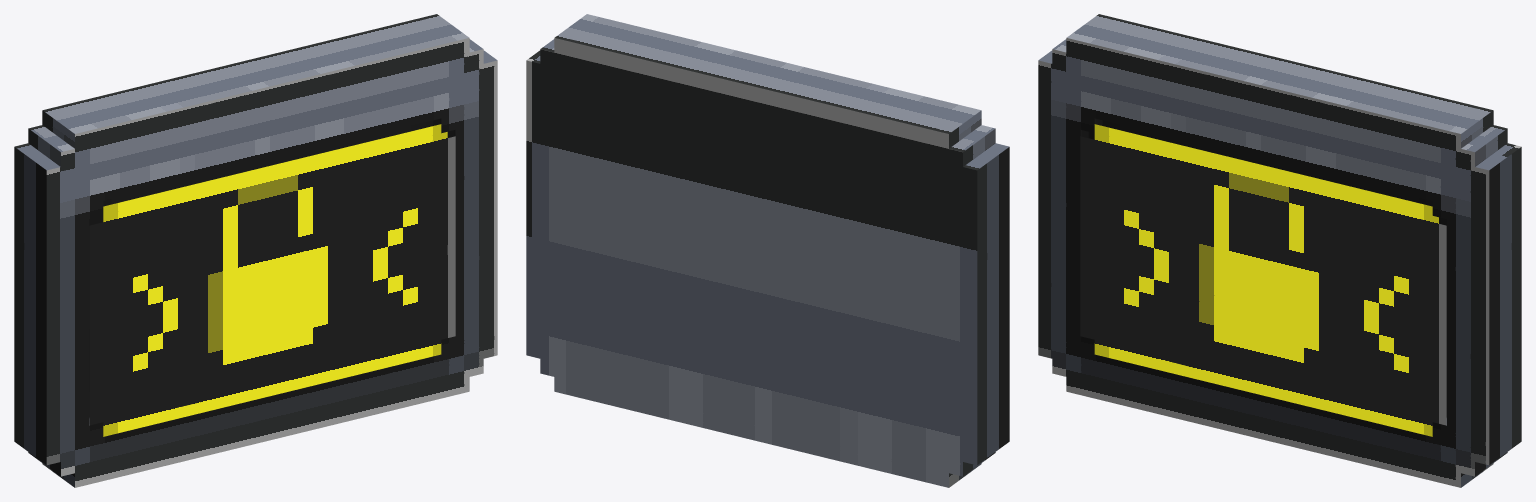
File: status_display_lockdown.glb
3 renders of one model, left to right at view 1: azimuth 30°, elevation 25°; view 2: azimuth 150°, elevation 25°; view 3: azimuth 330°, elevation 25°, orthographic.
Visible parts, largest first — view 1: Continuous_Frame, Picture_Overlay, Recessed_Glass; view 2: Continuous_Frame; view 3: Continuous_Frame, Picture_Overlay, Recessed_Glass.
Boxes of the visible parts, x1,y1,x2,y2 form: Continuous_Frame: (14, 14, 497, 487); Picture_Overlay: (89, 124, 455, 436); Recessed_Glass: (89, 119, 454, 225); Continuous_Frame: (526, 14, 1009, 487); Continuous_Frame: (1038, 14, 1521, 487); Picture_Overlay: (1080, 124, 1446, 436); Recessed_Glass: (1081, 119, 1446, 225).
Bounding box in the file's own units: 0.9 × 0.675 × 0.1129.
Materials: 3 (3 with a texture image).
